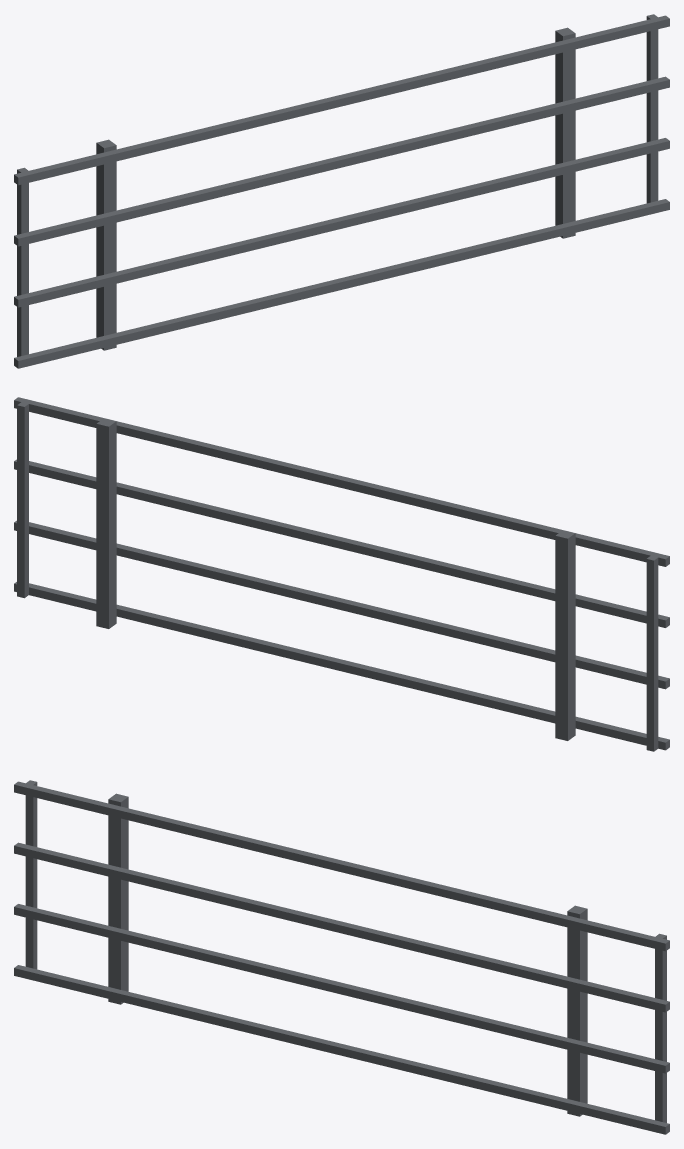
File: SM_Sign_Backing_Short_06.obj
3 renders of one model, top to bottom at view 1: azimuth 30°, elevation 25°; view 2: azimuth 150°, elevation 25°; view 3: azimuth 330°, elevation 25°, orthographic.
Parts seen in each view (by area): view 1: SM_Sign_Backing_Short_06_0; view 2: SM_Sign_Backing_Short_06_0; view 3: SM_Sign_Backing_Short_06_0.
Boxes of the visible parts, left/top/right/bottom form: SM_Sign_Backing_Short_06_0: left=14, top=14, right=669, bottom=368; SM_Sign_Backing_Short_06_0: left=14, top=397, right=669, bottom=751; SM_Sign_Backing_Short_06_0: left=14, top=780, right=669, bottom=1134.
Size of the model in its own units: 4.97 by 1.48 by 0.1583.
1 material, 1 textured.
